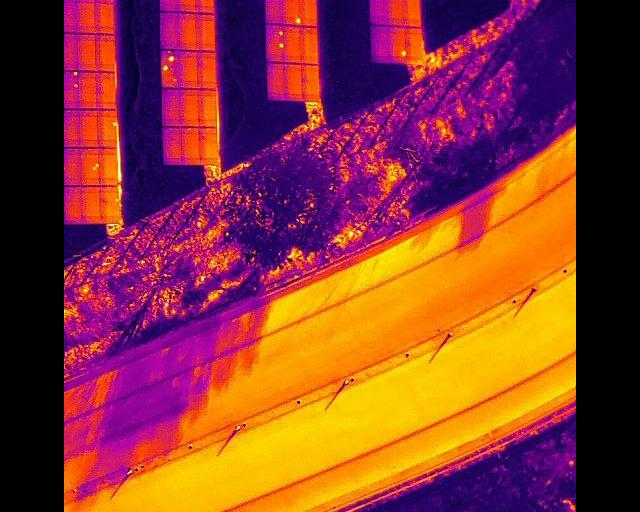Cell: (98, 109, 116, 148), (101, 186, 119, 223), (391, 26, 406, 62), (283, 0, 301, 27)
Cell-Multi: (266, 23, 285, 63), (80, 147, 100, 184), (161, 49, 178, 88), (64, 70, 79, 110)
No-Anomaly: (178, 11, 197, 50), (179, 49, 198, 88), (162, 88, 181, 126), (163, 126, 182, 164), (180, 88, 199, 126), (197, 12, 216, 50), (198, 50, 217, 88), (77, 34, 96, 72), (97, 72, 116, 110), (371, 26, 391, 62), (96, 34, 115, 71), (182, 126, 200, 165), (199, 88, 217, 127), (82, 185, 100, 224), (267, 62, 285, 100), (301, 26, 319, 64), (80, 109, 98, 147), (64, 185, 82, 223), (94, 0, 114, 34), (160, 11, 178, 48), (199, 127, 217, 164), (301, 64, 319, 101), (285, 26, 302, 64), (80, 71, 97, 109), (99, 148, 116, 186), (64, 147, 81, 185), (285, 63, 302, 100), (64, 109, 80, 147), (77, 0, 95, 33), (406, 27, 421, 63), (64, 32, 78, 70), (265, 0, 283, 25), (301, 0, 317, 28), (404, 0, 420, 28), (370, 0, 387, 26), (387, 0, 404, 26), (64, 0, 77, 32), (196, 0, 215, 12), (161, 0, 178, 12), (177, 0, 195, 11)
